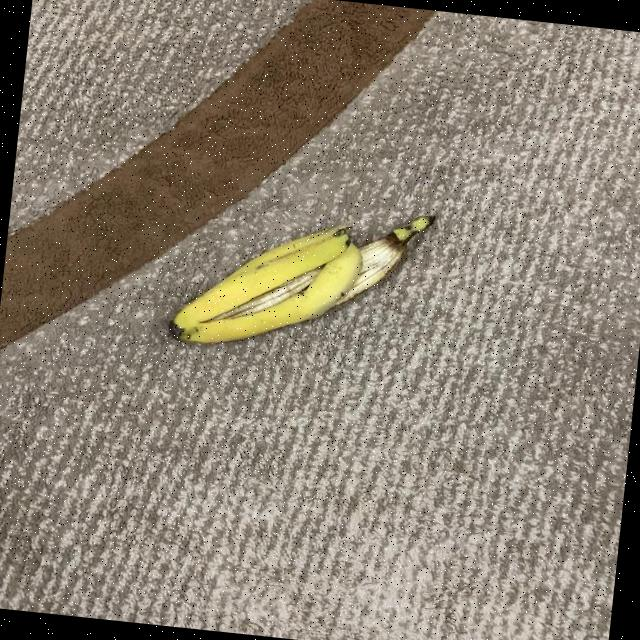banana-peel: (166, 186, 436, 368)
